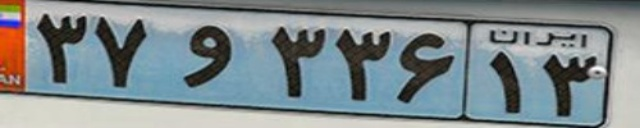1: (486, 50, 523, 113)
3: (331, 28, 390, 101), (272, 28, 324, 96), (35, 14, 85, 84), (542, 53, 596, 117)
6: (395, 32, 456, 103)
7: (93, 16, 146, 88)
vav: (184, 25, 231, 87)
